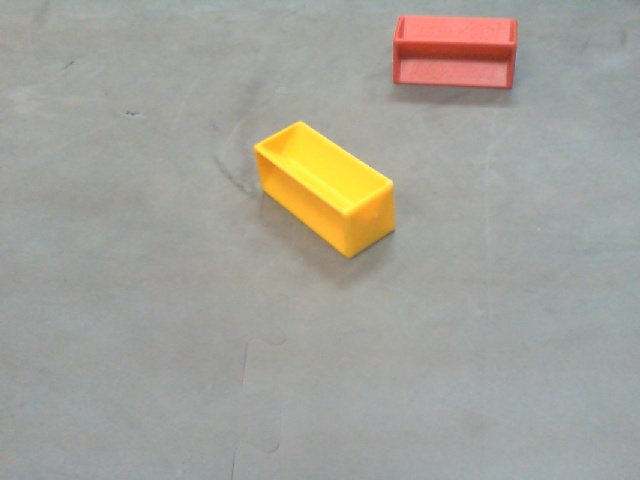RedSample: (392, 15, 519, 92)
YellowSample: (253, 121, 396, 258)
